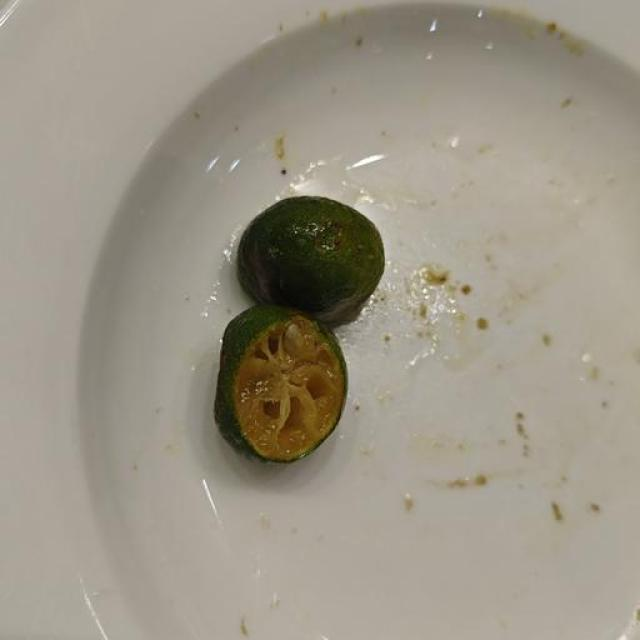organic: (215, 305, 347, 462), (238, 197, 384, 323)
